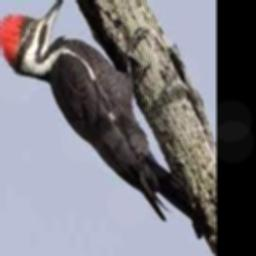Woodpecker: (0, 0, 214, 238)
